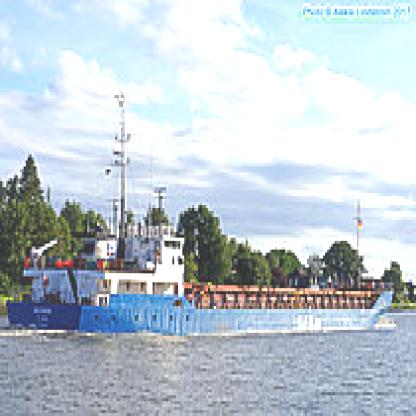Tanker: (4, 83, 402, 333)
